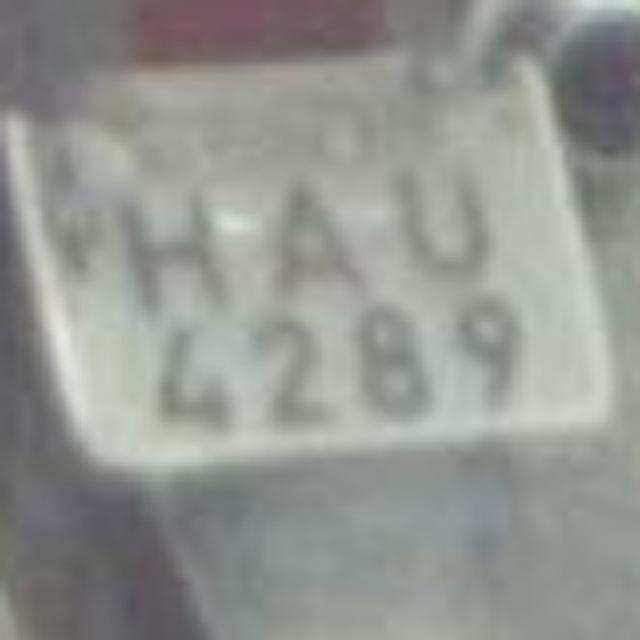2: (224, 292, 336, 432)
3: (384, 447, 544, 640)
4: (132, 300, 236, 432)
8: (331, 292, 444, 432)
9: (432, 280, 536, 428)
H: (115, 156, 240, 304)
U: (384, 131, 511, 304)
